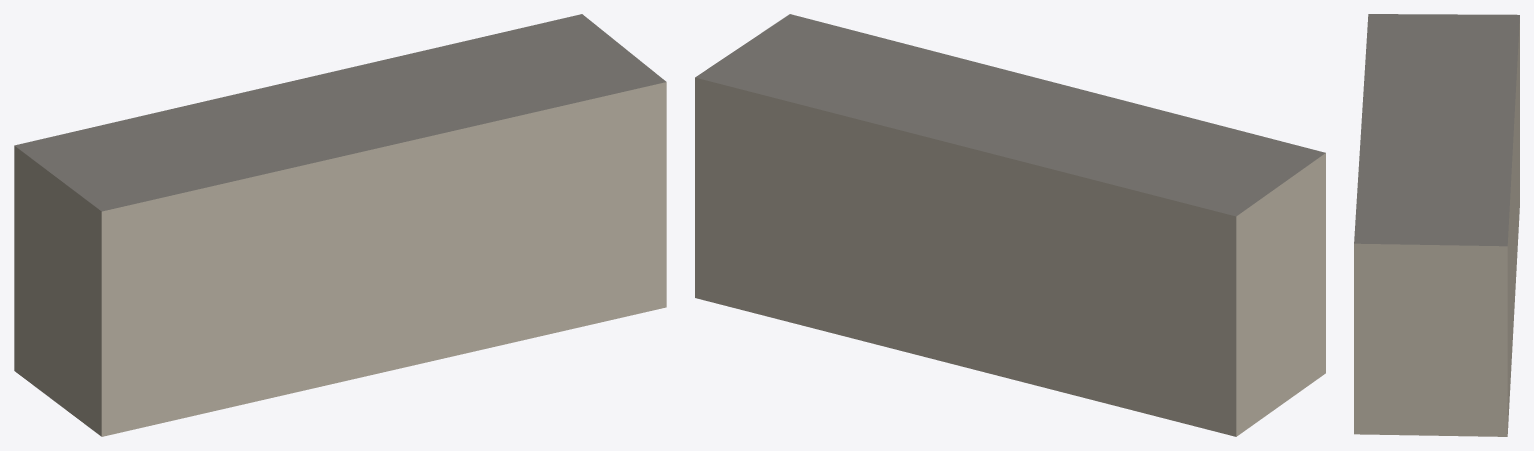
3 views of the same model, side by side, from view 1: azimuth 30°, elevation 25°; view 2: azimuth 150°, elevation 25°; view 3: azimuth 270°, elevation 25° (orthographic). The views are drawn at different scales.
Parts seen in each view (by area): view 1: HP-w505664429; view 2: HP-w505664429; view 3: HP-w505664429.
Boxes of the visible parts, box(x1,y1,x2,y2) form: HP-w505664429: box(14, 14, 666, 436); HP-w505664429: box(695, 14, 1325, 436); HP-w505664429: box(1354, 14, 1519, 436).
Bounding box in the file's own units: 39.19 × 15 × 11.83.
